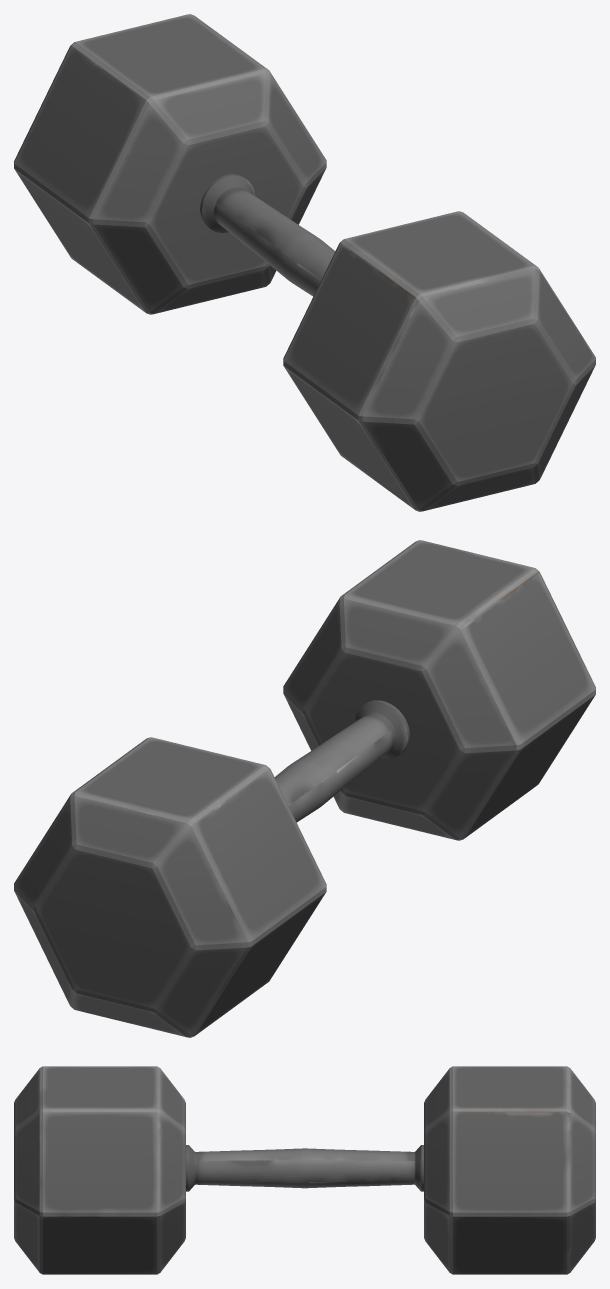
The model's file is dumbbell.glb.
The picture shows the model from 3 angles, top to bottom: view 1: azimuth 30°, elevation 25°; view 2: azimuth 150°, elevation 25°; view 3: azimuth 270°, elevation 25°; orthographic projection. The views are drawn at different scales.
Parts seen in each view (by area): view 1: Cylinder.010; view 2: Cylinder.010; view 3: Cylinder.010.
Boxes of the visible parts, box(x1,y1,x2,y2) form: Cylinder.010: box(14, 14, 595, 511); Cylinder.010: box(14, 540, 595, 1037); Cylinder.010: box(14, 1066, 595, 1274).
Size of the model in its own units: 5.26 by 4.61 by 14.65.
Materials: 1 (1 with a texture image).
